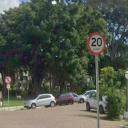NoSeguir: (4, 76, 12, 84)
speed_limit_20: (87, 32, 106, 54)
